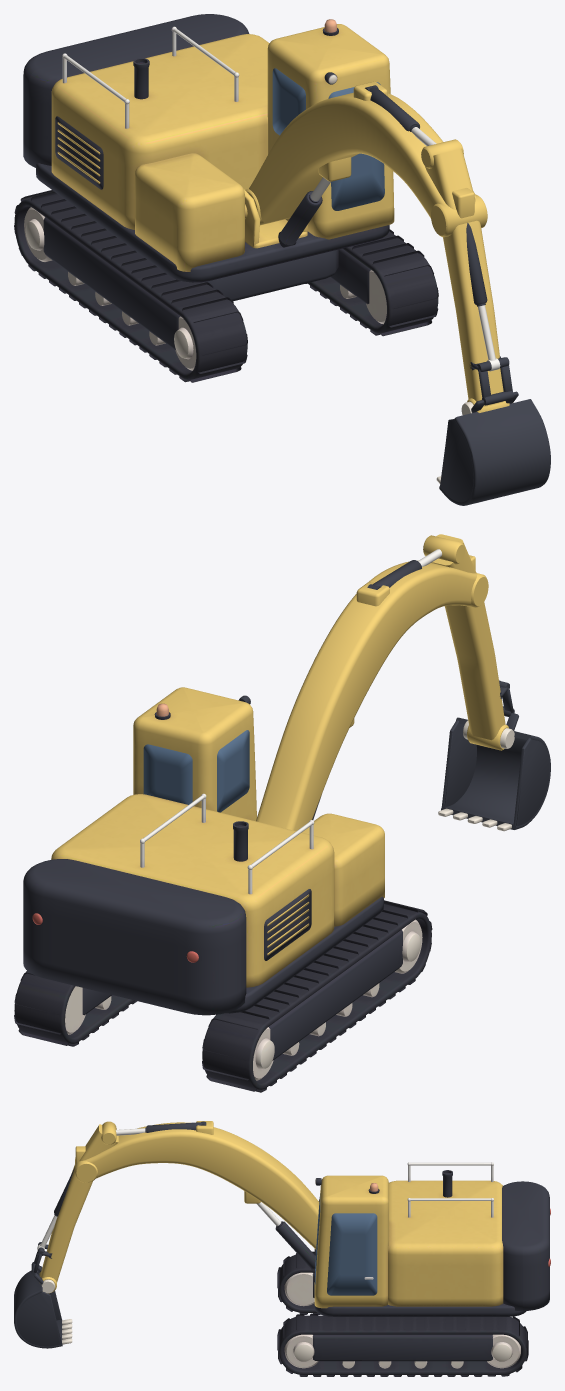
The model's file is excavator.glb.
The picture shows the model from 3 angles, top to bottom: view 1: azimuth 30°, elevation 25°; view 2: azimuth 150°, elevation 25°; view 3: azimuth 270°, elevation 25°; orthographic projection. The views are drawn at different scales.
Visible parts, largest first — view 1: excavator_upper, excavator_body, excavator_boom, excavator_arm, excavator_bucket, excavator_windows; view 2: excavator_upper, excavator_body, excavator_boom, excavator_bucket, excavator_arm, excavator_windows; view 3: excavator_upper, excavator_body, excavator_boom, excavator_windows, excavator_arm, excavator_bucket.
Part boxes in pixels (bbox=[...]): excavator_upper: bbox=[23, 14, 394, 282]; excavator_body: bbox=[14, 190, 438, 382]; excavator_boom: bbox=[245, 81, 487, 237]; excavator_arm: bbox=[411, 127, 514, 412]; excavator_bucket: bbox=[436, 391, 550, 505]; excavator_windows: bbox=[272, 68, 384, 210]; excavator_upper: bbox=[23, 687, 384, 1015]; excavator_body: bbox=[14, 900, 432, 1092]; excavator_boom: bbox=[256, 560, 488, 830]; excavator_bucket: bbox=[438, 713, 550, 831]; excavator_arm: bbox=[418, 534, 514, 750]; excavator_windows: bbox=[143, 730, 249, 812]; excavator_upper: bbox=[275, 1162, 550, 1316]; excavator_body: bbox=[277, 1251, 528, 1376]; excavator_boom: bbox=[75, 1121, 319, 1249]; excavator_windows: bbox=[315, 1193, 377, 1295]; excavator_arm: bbox=[31, 1121, 145, 1293]; excavator_bucket: bbox=[14, 1265, 72, 1348].
Size of the model in its own units: 2.93 by 3.7 by 8.4.
Materials: 11 (2 with a texture image).
